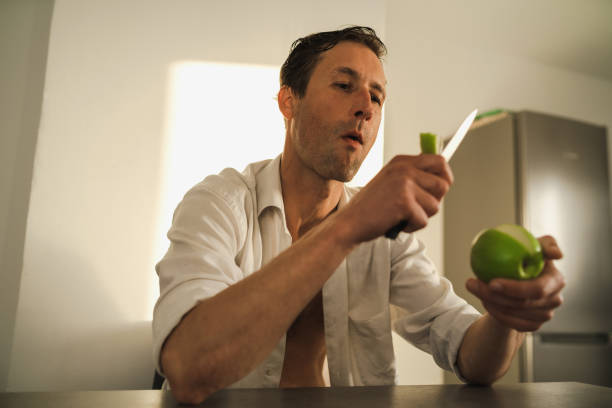knife: (385, 109, 479, 241)
